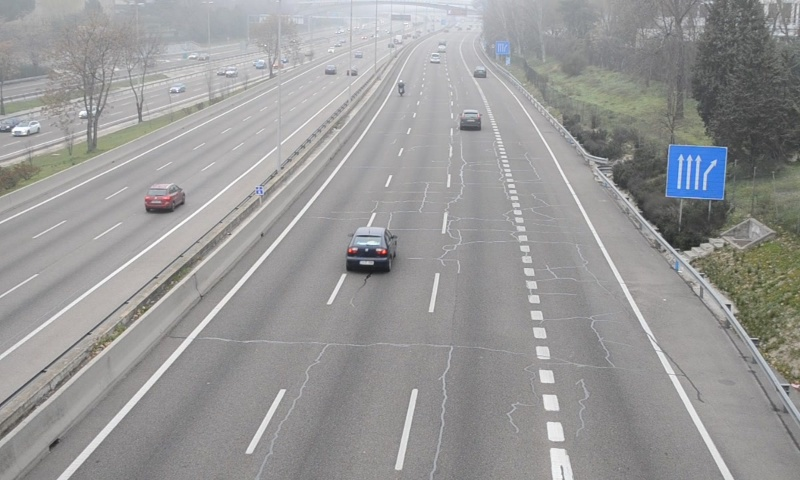car: (345, 225, 397, 274), (458, 107, 482, 130), (473, 66, 486, 78)
motorcycle: (396, 80, 404, 99)
